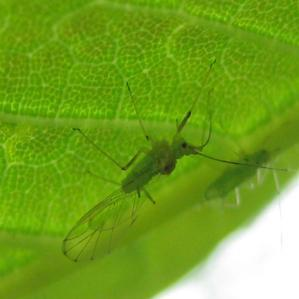Green peach aphid: (18, 39, 277, 284)
